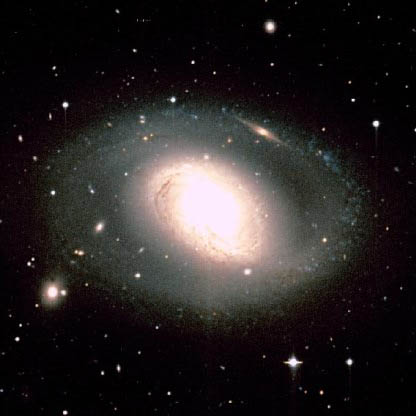Messier 96: (29, 90, 389, 323)
